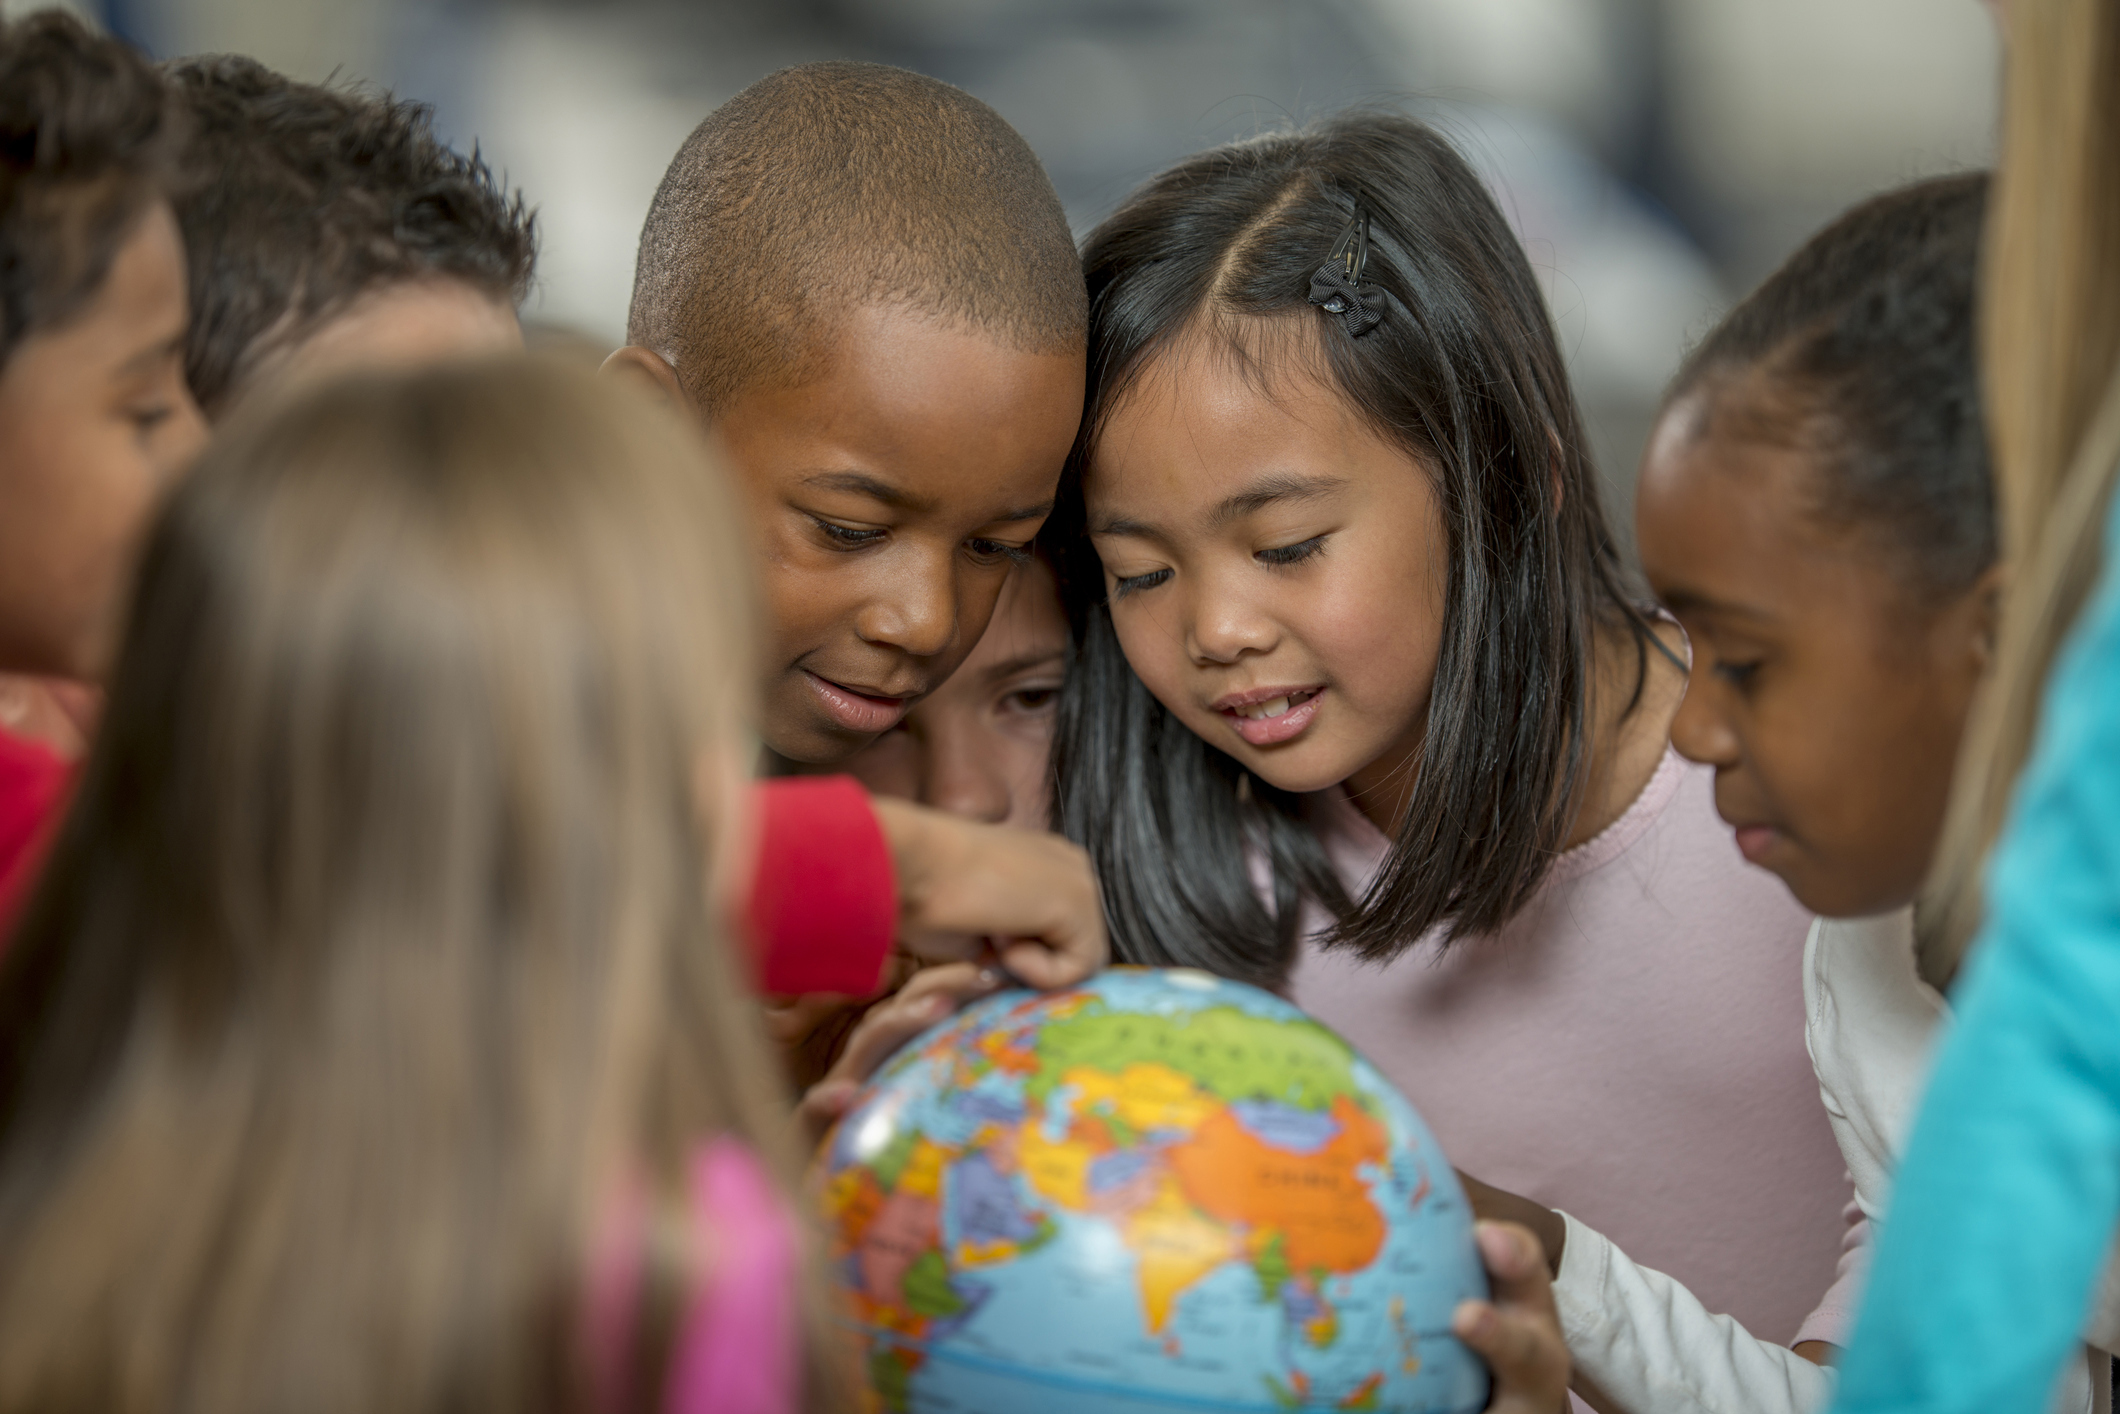human: (1077, 111, 1857, 1414), (1626, 112, 2120, 1414), (620, 37, 1089, 778)
